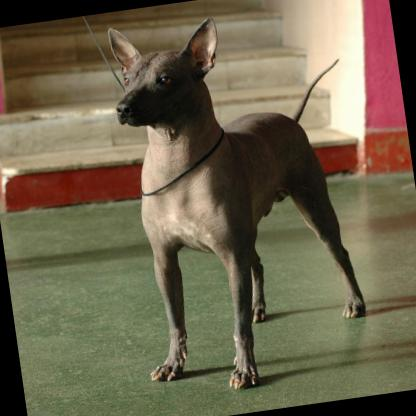Mexican_hairless: (99, 0, 382, 397)
